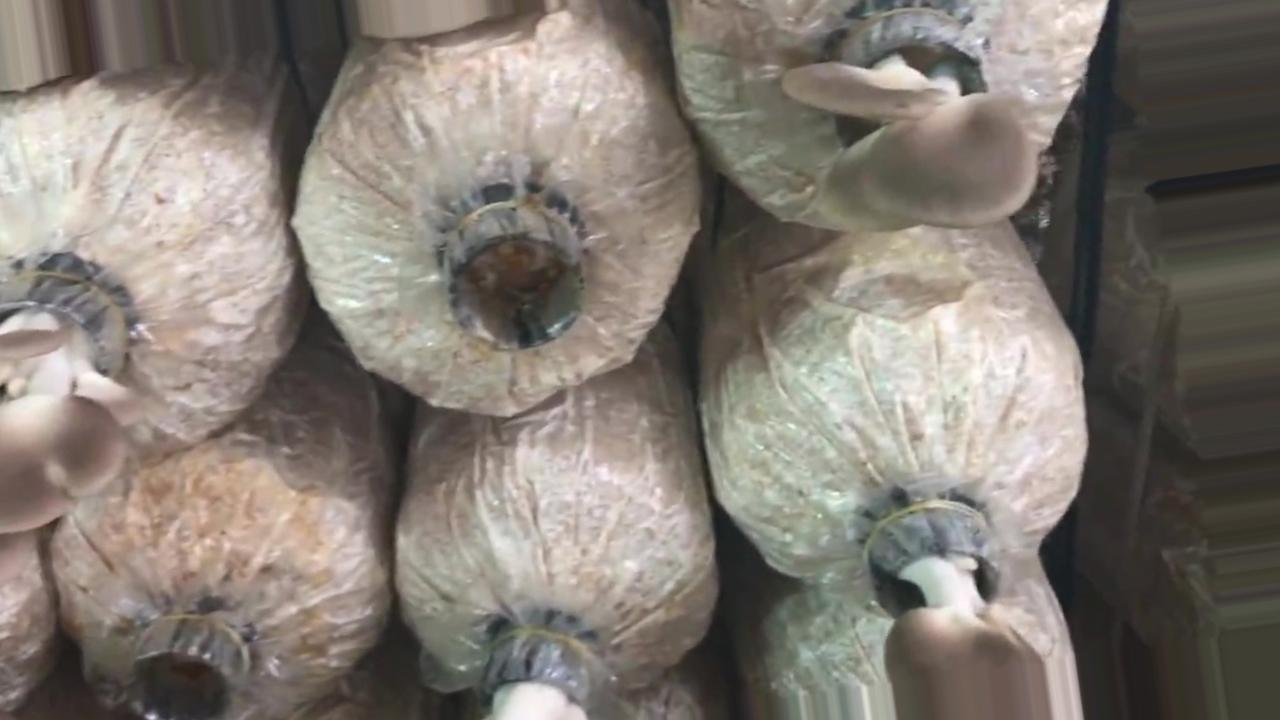nam: (778, 3, 1043, 232), (867, 488, 1051, 720), (1, 259, 142, 533)
